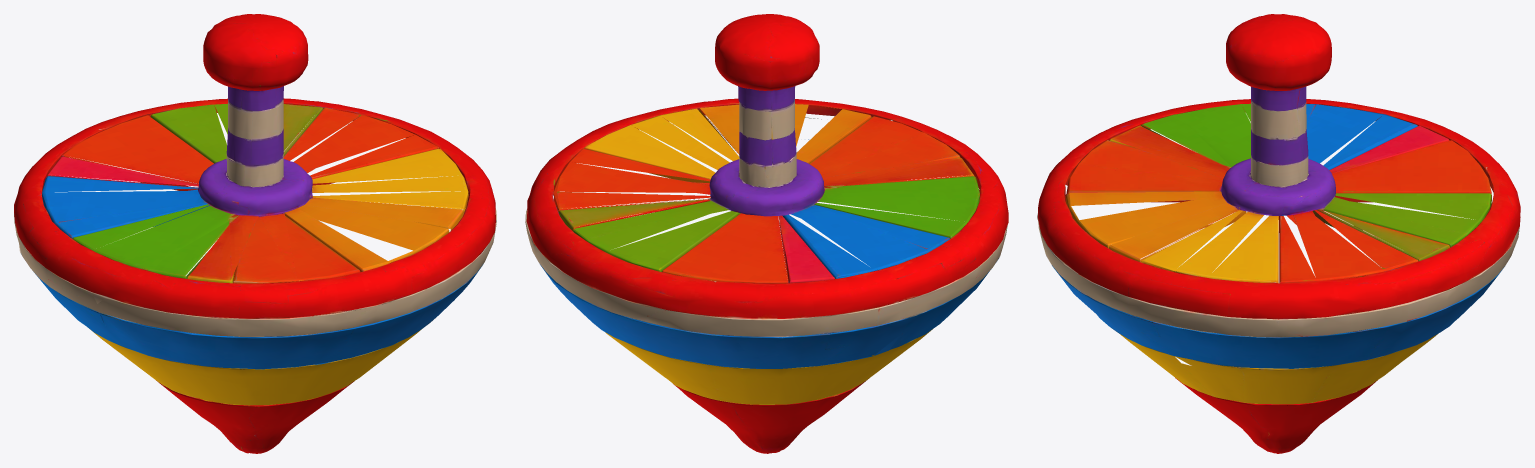
The model's file is spinning_top.glb.
3 views of the same model, side by side, from view 1: azimuth 30°, elevation 25°; view 2: azimuth 150°, elevation 25°; view 3: azimuth 270°, elevation 25° (orthographic).
Size of what is drawn, in the model's own units: 1.03 by 1 by 1.02.
1 material, 1 textured.
